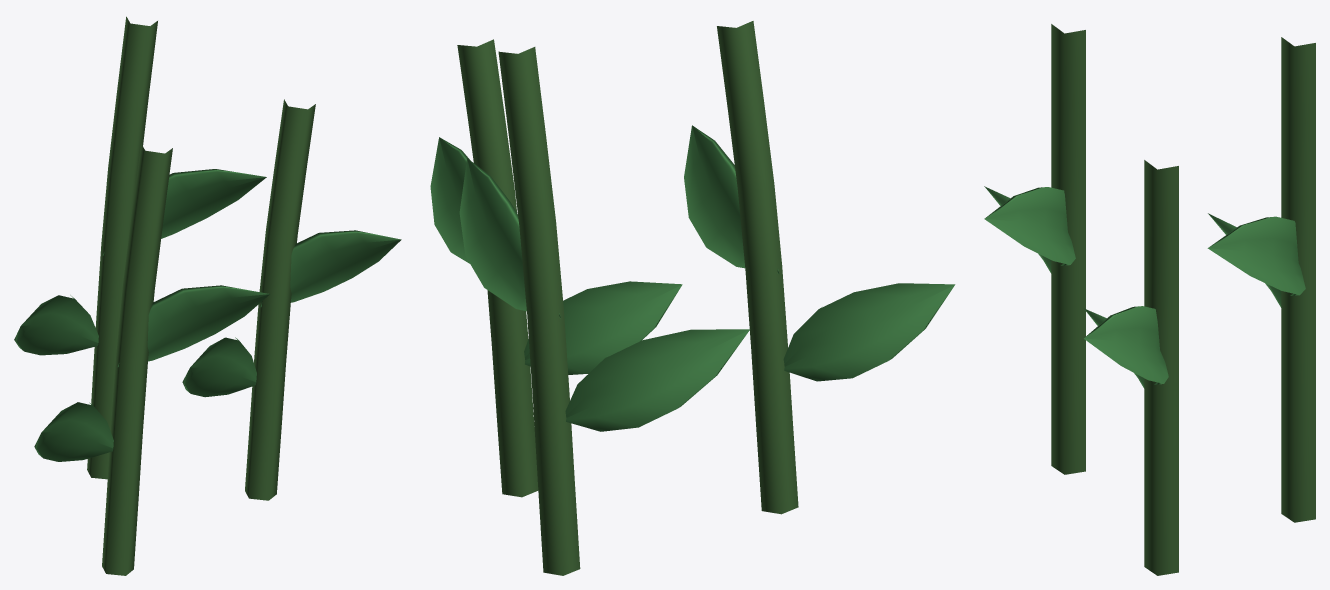
Rendered from trigo_1.glb.
3 views of the same model, side by side, from view 1: azimuth 30°, elevation 25°; view 2: azimuth 150°, elevation 25°; view 3: azimuth 270°, elevation 25° (orthographic). The views are drawn at different scales.
Visible parts, largest first — view 1: trigo_1_espigas_0; view 2: trigo_1_espigas_0; view 3: trigo_1_espigas_0.
Part boxes in pixels (box(x1,y1,x2,y2)): trigo_1_espigas_0: box(14, 16, 401, 575); trigo_1_espigas_0: box(430, 21, 955, 575); trigo_1_espigas_0: box(984, 24, 1315, 575).
Size of the model in its own units: 0.2481 by 0.2618 by 0.1568.
